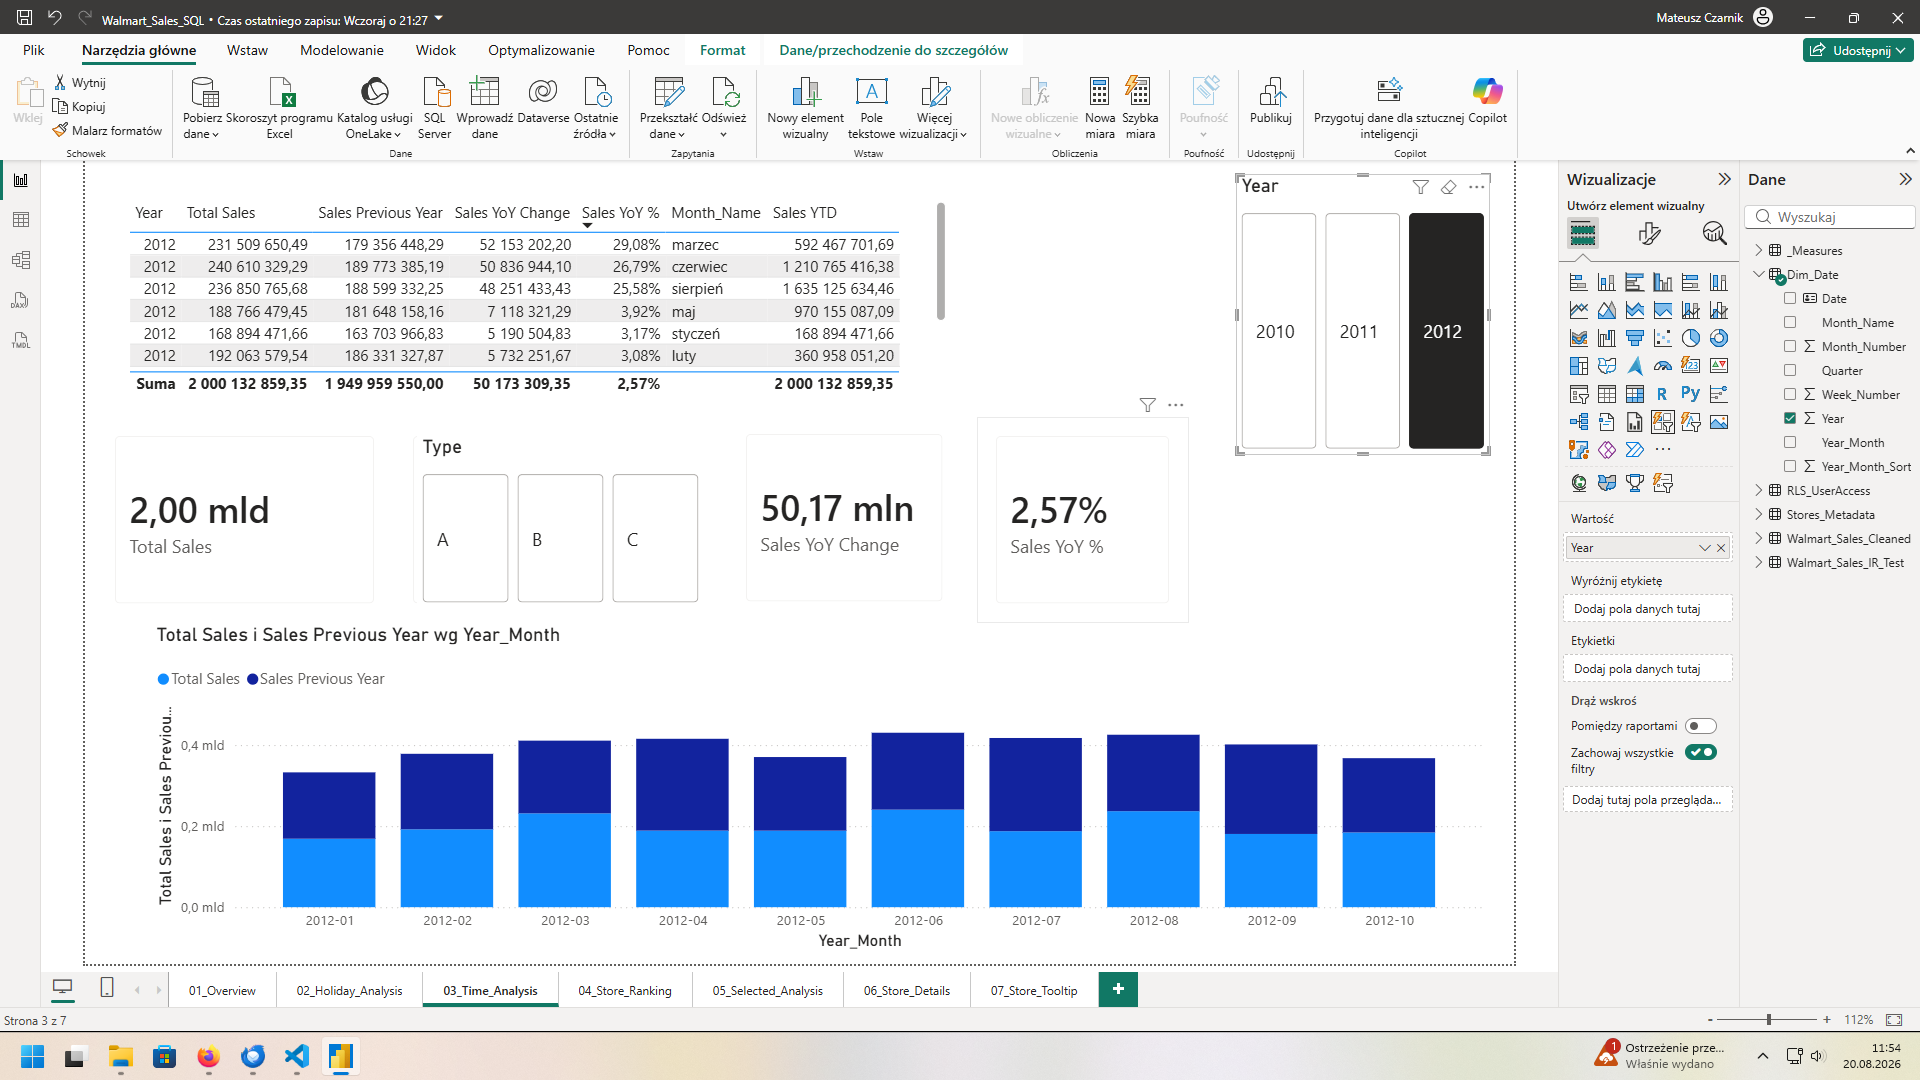

This screenshot's page, from the dashboard's own definition file:
{"tool":"powerbi","page":{"name":"03_Time_Analysis","canvas":[1280,720],"ordinal":2},"visuals":[{"type":"tableEx","fields":{"Values":["Dim_Date.Year","_Measures.Total Sales","_Measures.Sales Previous Year","_Measures.Sales YoY Change","_Measures.Sales YoY %","Dim_Date.Month_Name","_Measures.Sales YTD"]},"box":[34,32.2,742,181.8],"z":0},{"type":"cardVisual","fields":{"Data":["_Measures.Total Sales"]},"box":[10.2,230.4,266.2,184.3],"z":1000},{"type":"cardVisual","fields":{"Data":["_Measures.Sales Previous Year"]},"box":[276.5,230.4,225.3,184.3],"z":2000},{"type":"cardVisual","fields":{"Data":["_Measures.Sales YoY Change"]},"box":[574.9,228,210.2,184.8],"z":3000},{"type":"cardVisual","fields":{"Data":["_Measures.Sales YoY %"]},"box":[799,229.9,189.4,184.3],"z":4000},{"type":"advancedSlicerVisual","fields":{"Values":["Dim_Date.Year"]},"box":[1030.8,12.7,227.1,251.4],"z":5000},{"type":"lineStackedColumnComboChart","fields":{"Category":["Dim_Date.Year_Month"],"Y":["_Measures.Total Sales","_Measures.Sales Previous Year"]},"box":[59.1,415,1198.7,297.8],"z":6000},{"type":"advancedSlicerVisual","fields":{"Values":["Stores_Metadata.Type"]},"box":[297,246.2,258.7,155.2],"z":7000}]}

Visuals, with their boxes on the page's 1280x720 design canvas (x1, y1, x2, y2). These are canvas units, not pixel positions in the 1920x1080 screenshot, which may show the page scaled, cropped or inside an application window:
tableEx - Dim_Date.Year x _Measures.Total Sales: (left=34, top=32, right=776, bottom=214)
cardVisual - _Measures.Total Sales: (left=10, top=230, right=276, bottom=415)
cardVisual - _Measures.Sales Previous Year: (left=276, top=230, right=502, bottom=415)
cardVisual - _Measures.Sales YoY Change: (left=575, top=228, right=785, bottom=413)
cardVisual - _Measures.Sales YoY %: (left=799, top=230, right=988, bottom=414)
advancedSlicerVisual - Dim_Date.Year: (left=1031, top=13, right=1258, bottom=264)
lineStackedColumnComboChart - Dim_Date.Year_Month x _Measures.Total Sales: (left=59, top=415, right=1258, bottom=713)
advancedSlicerVisual - Stores_Metadata.Type: (left=297, top=246, right=556, bottom=401)
